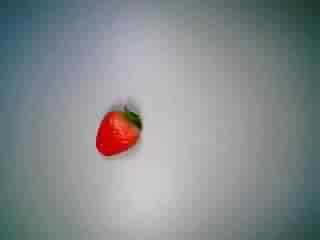strawberry: (84, 102, 153, 158)
